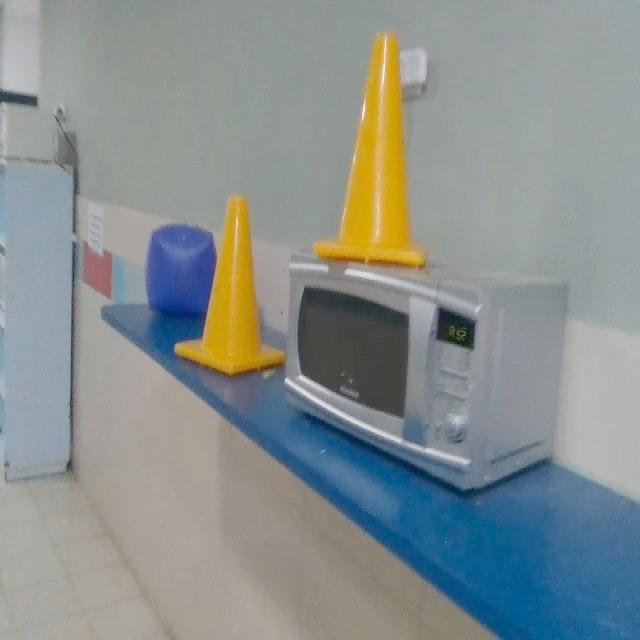cone: (314, 32, 428, 268), (177, 194, 286, 376)
cube: (147, 226, 217, 321)
